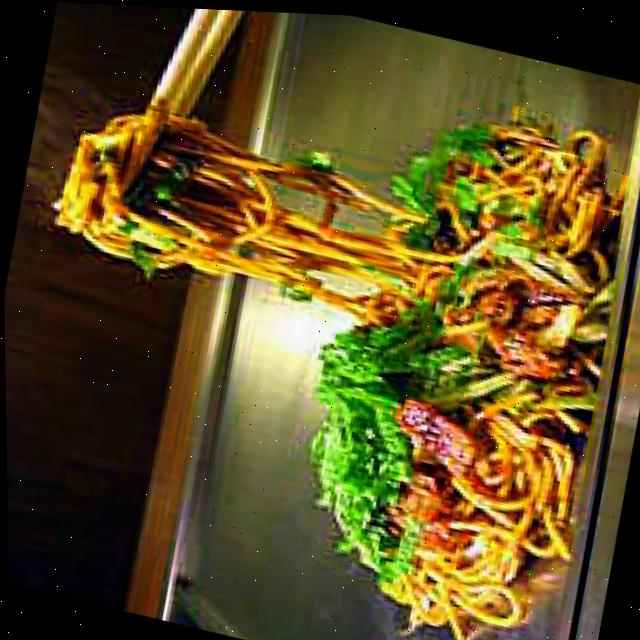面条主食: (269, 69, 640, 640)
